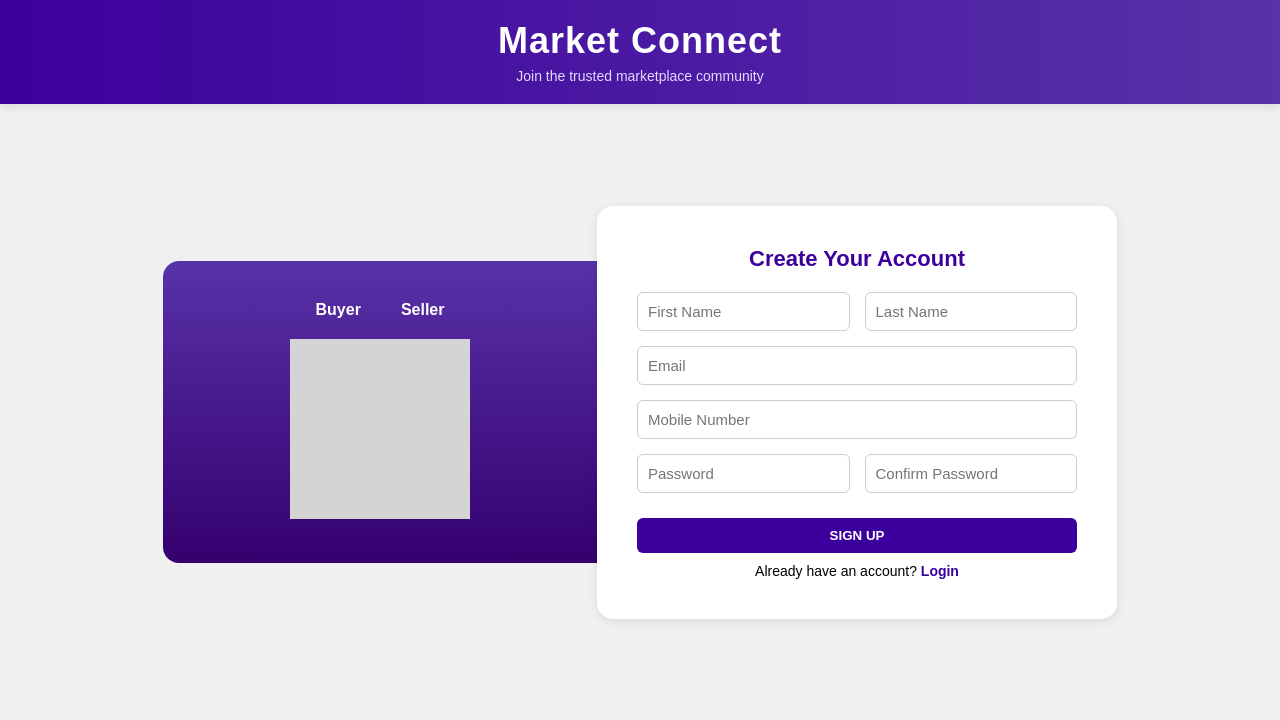
it: Signup › prevents submission when field-level errors exist
This screenshot has width=1280, height=720.
Type "12345678901" into the field with placeholder "Mobile Number" at (857, 419), box [637,400,1077,438]
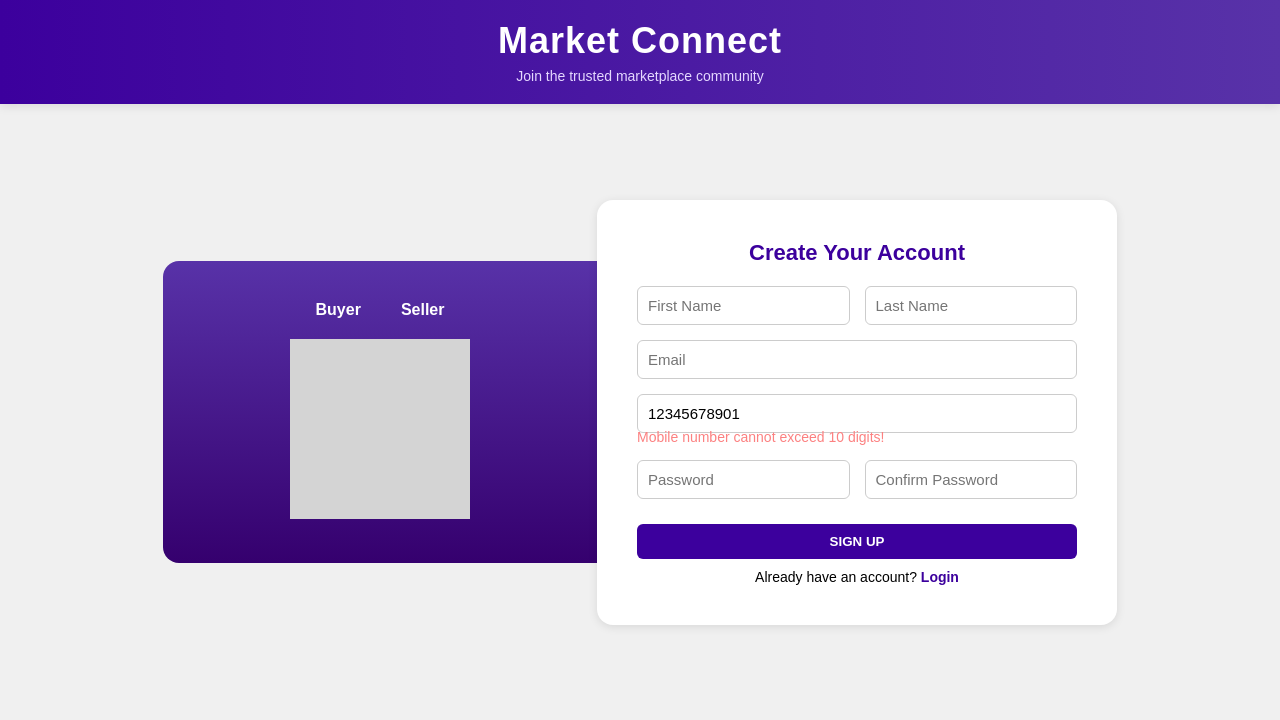
Click the button "SIGN UP" at (857, 541), box [637,524,1077,558]
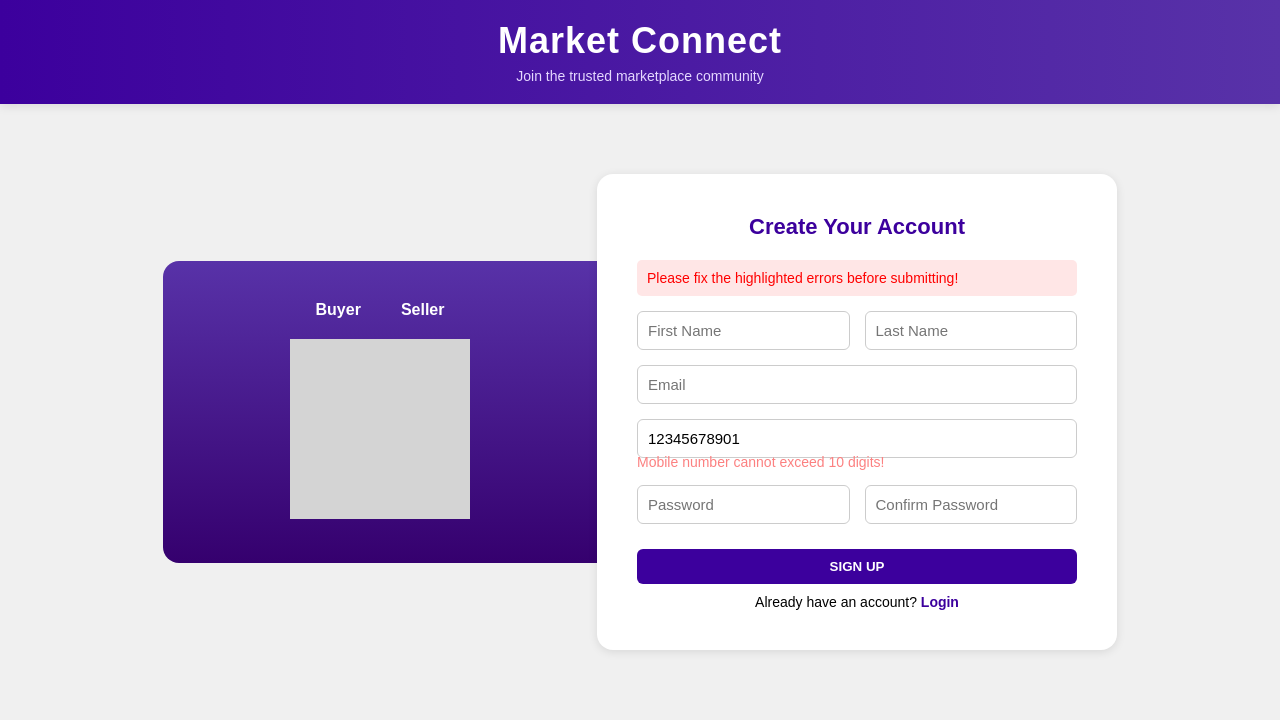
Expected: the text "Please fix the highlighted errors before submitting!" is shown, [637,260,1077,296]
